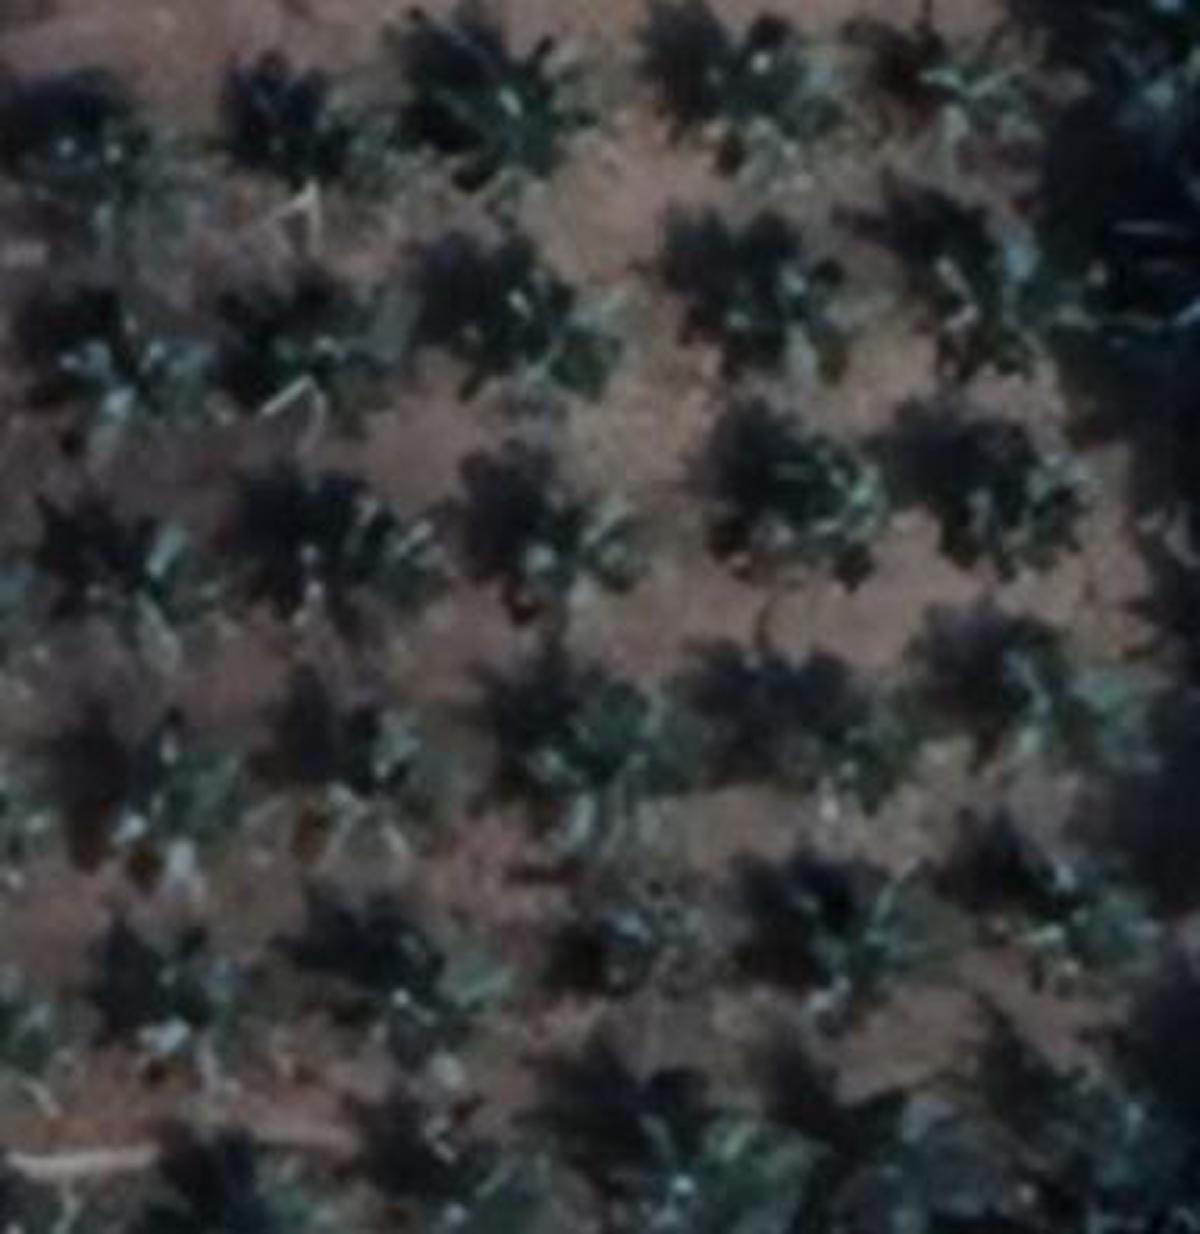coconut: (260, 469, 457, 660), (437, 234, 636, 419), (417, 15, 607, 201), (933, 410, 1106, 595), (704, 425, 886, 600), (971, 626, 1153, 795), (902, 209, 1084, 378), (974, 818, 1146, 989), (479, 466, 657, 632), (585, 1083, 780, 1234), (62, 497, 231, 670), (78, 717, 247, 889), (291, 714, 466, 873), (109, 920, 275, 1083), (260, 285, 422, 447), (234, 65, 394, 228), (764, 648, 925, 811), (325, 905, 491, 1061), (18, 109, 175, 272), (523, 695, 687, 851), (777, 838, 936, 995), (701, 219, 861, 375), (830, 1093, 1005, 1234), (53, 313, 213, 463), (692, 28, 852, 175), (363, 1108, 529, 1234), (563, 864, 714, 1002), (902, 28, 1046, 159)
